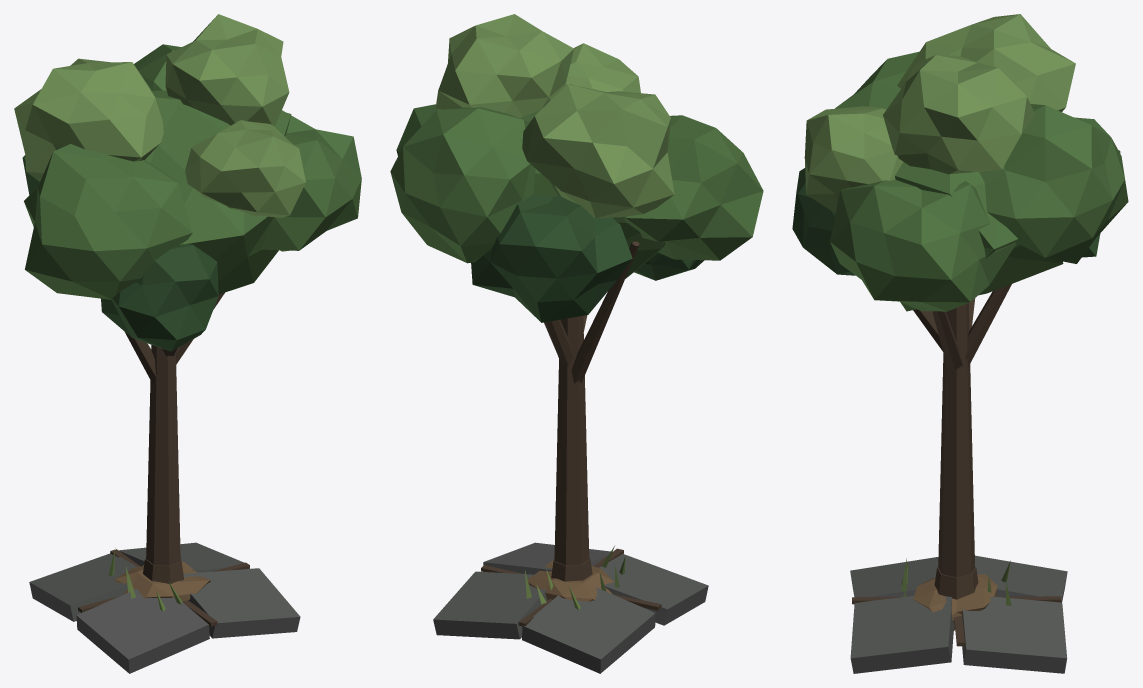
Rendered from tree_asphalt.glb.
3 views of the same model, side by side, from view 1: azimuth 30°, elevation 25°; view 2: azimuth 150°, elevation 25°; view 3: azimuth 270°, elevation 25° (orthographic). The views are drawn at different scales.
Parts seen in each view (by area): view 1: tree_asphalt; view 2: tree_asphalt; view 3: tree_asphalt.
Part boxes in pixels (box(x1,y1,x2,y2)): tree_asphalt: box(14, 14, 361, 673); tree_asphalt: box(390, 14, 763, 673); tree_asphalt: box(792, 14, 1128, 673).
Bounding box in the file's own units: 3.05 × 4.95 × 2.51.
1 material, 1 textured.
